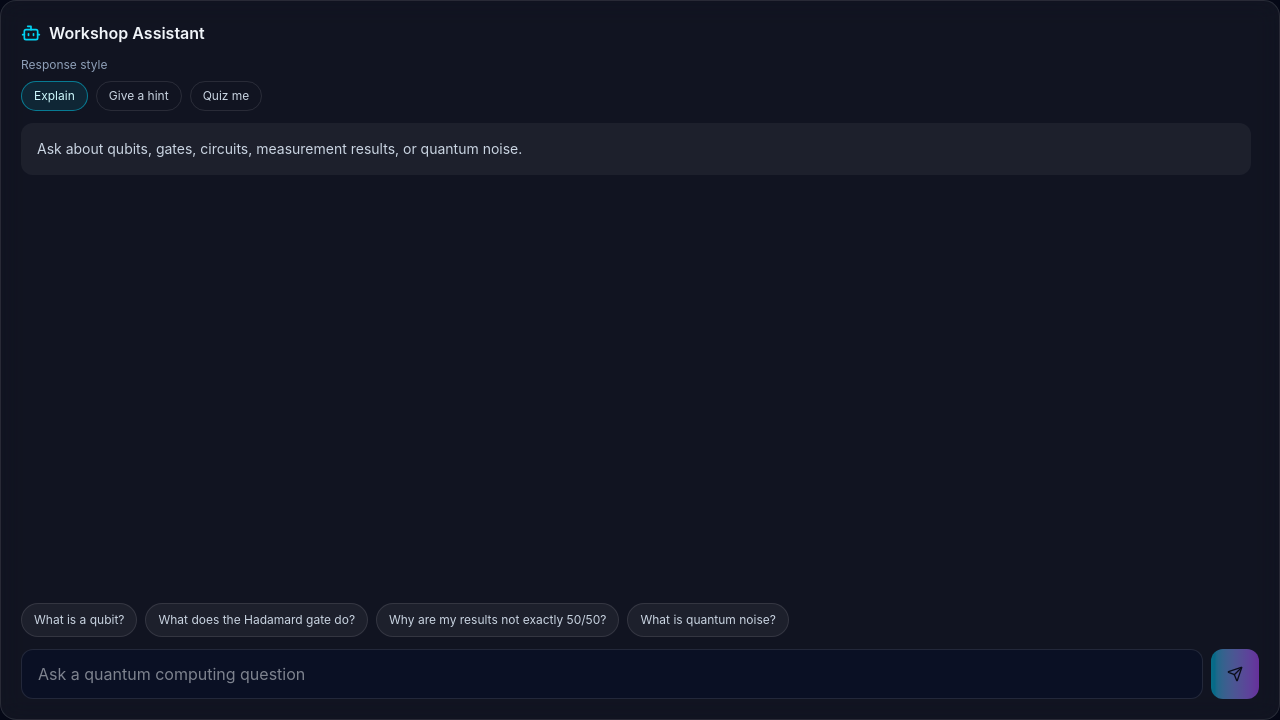
sends a question and distinguishes an AI answer from the guide
Click the button "What is a qubit?" at {"x": 79, "y": 620}, box [21,603,138,637]
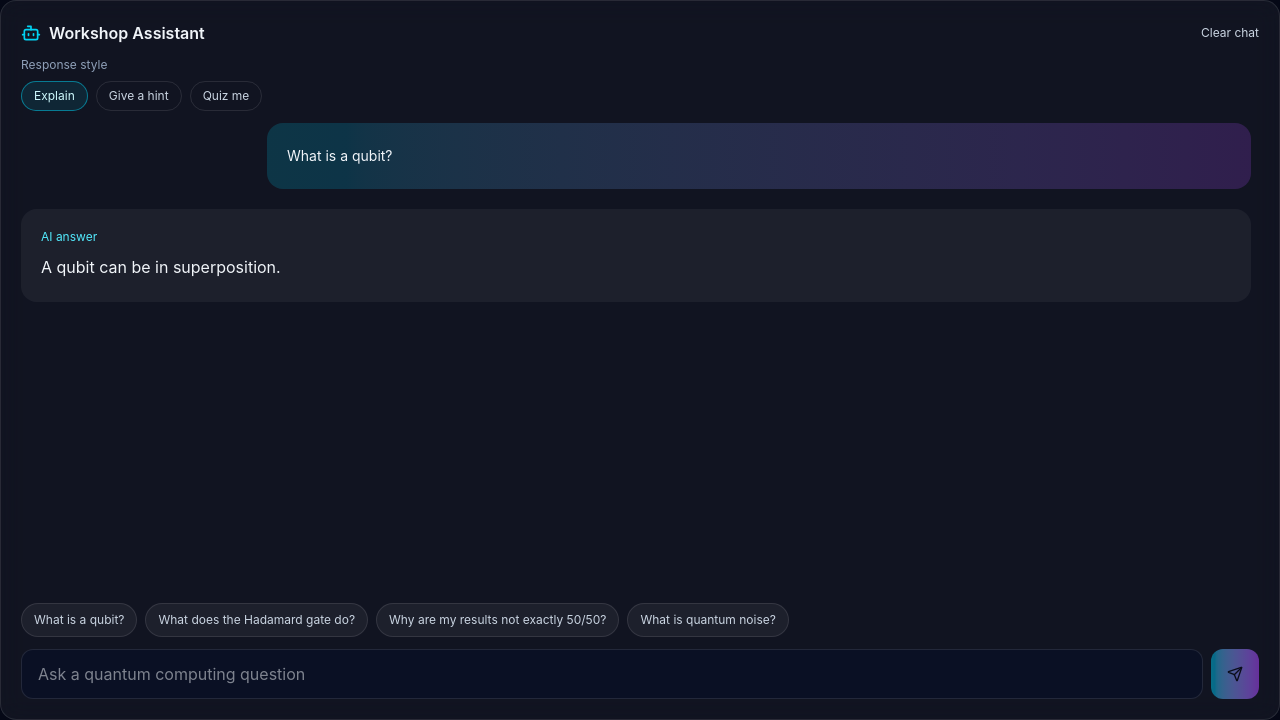
Expected: the text "AI answer" is shown, [41,229,97,244]
Expected: the text "A qubit can be in superposition." is shown, [41,257,281,277]
